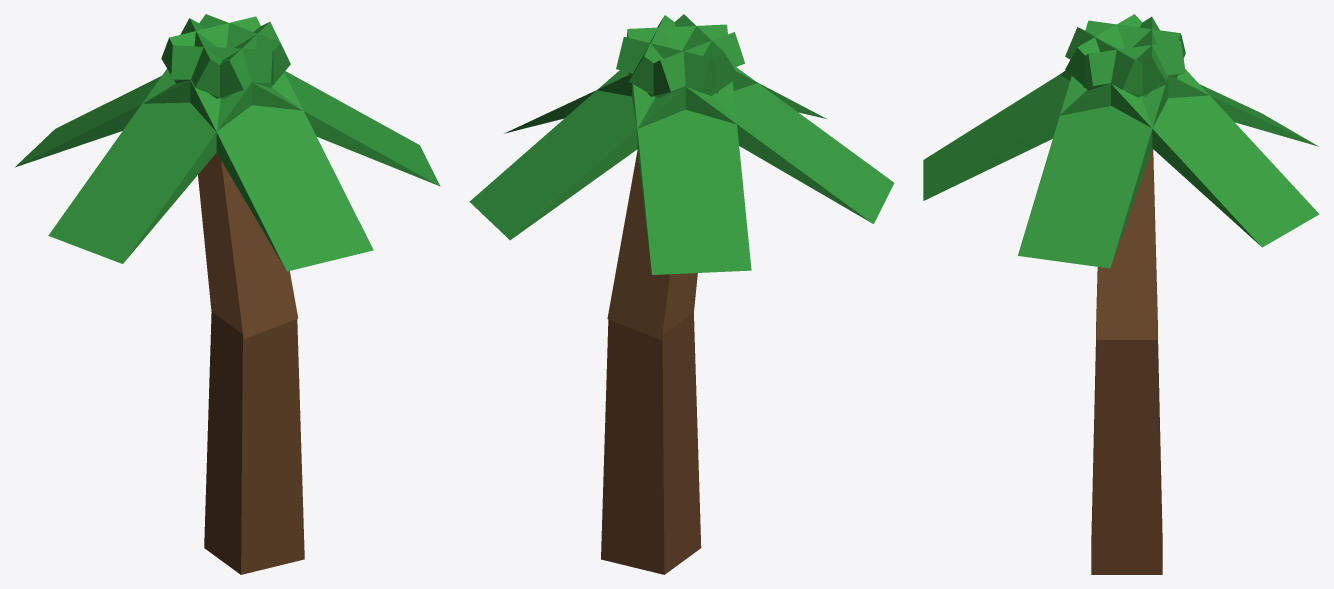
File: palm.glb
The picture shows the model from 3 angles, left to right: view 1: azimuth 30°, elevation 25°; view 2: azimuth 150°, elevation 25°; view 3: azimuth 270°, elevation 25°; orthographic projection. The views are drawn at different scales.
Visible parts, largest first — view 1: trunk_low, leaf1, leaf2, trunk_high, leaf5, leaf3, leaf4; view 2: trunk_low, leaf3, leaf4, leaf2, trunk_high, leaf5, leaf1; view 3: leaf5, trunk_low, leaf4, leaf1, trunk_high, leaf3, leaf2.
Boxes of the visible parts, x1,y1,x2,y2 form: trunk_low: (204,312,304,574); leaf1: (161,16,373,271); leaf2: (48,14,290,263); trunk_high: (198,152,297,339); leaf5: (180,18,440,186); leaf3: (15,22,279,167); leaf4: (171,45,274,84); trunk_low: (601,312,701,574); leaf3: (627,24,751,274); leaf4: (469,14,738,240); leaf2: (629,15,894,223); trunk_high: (607,150,697,340); leaf5: (504,32,744,133); leaf1: (616,37,827,119); leaf5: (1018,20,1185,268); trunk_low: (1091,340,1162,574); leaf4: (1065,14,1319,247); leaf1: (923,16,1167,200); trunk_high: (1096,148,1157,339); leaf3: (1065,27,1318,146); leaf2: (1060,41,1185,87).
Size of the model in its own units: 0.2564 by 0.3457 by 0.2439.
